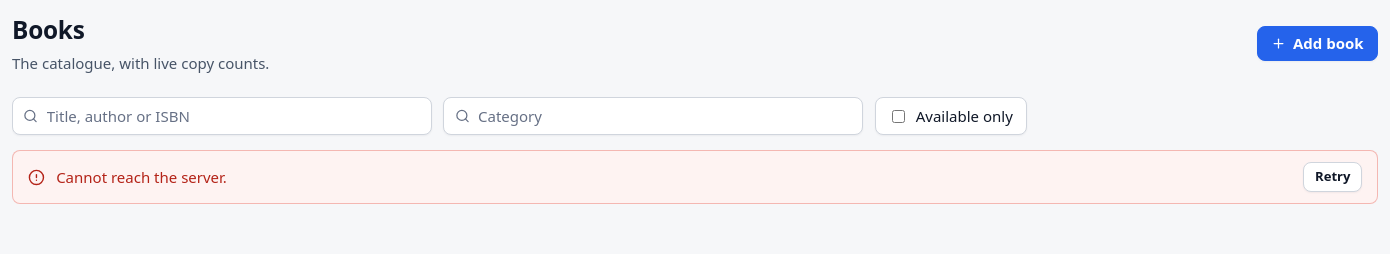
it: BooksPage › shows a load failure with a working Retry
expect the message shows "Cannot reach the server.": met, box [56,167,227,187]
Step 1. Click the button "Retry" → point(1333, 177), box [1304,162,1362,192]
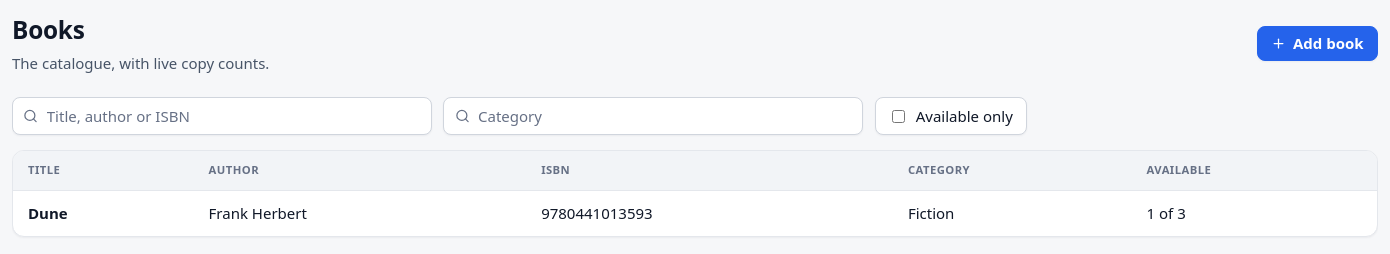
expect the link "Dune" is shown: met, box [28,203,68,223]
